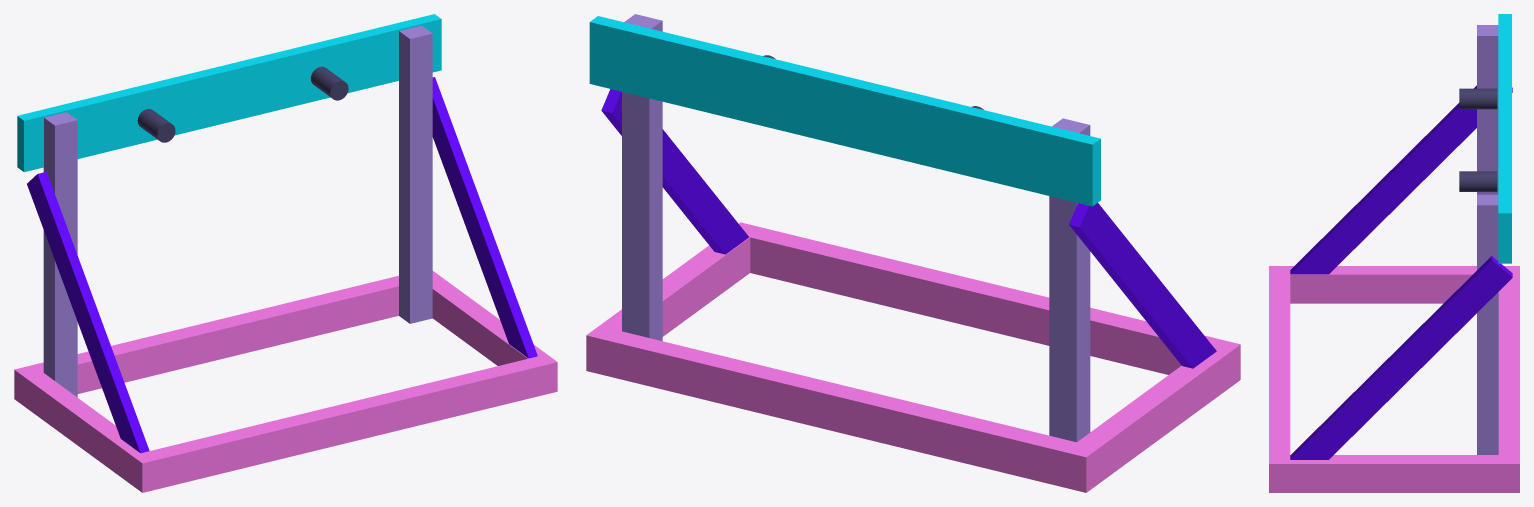
The model's file is weapon_rack.fbx.
3 renders of one model, left to right at view 1: azimuth 30°, elevation 25°; view 2: azimuth 150°, elevation 25°; view 3: azimuth 270°, elevation 25°, orthographic. The views are drawn at different scales.
Visible parts, largest first — view 1: pCube7, pCube3, pCube1, pCube6, pCube5, pCube8, pCube9, pCube2, pCube4, pCylinder1, pCylinder2; view 2: pCube7, pCube1, pCube3, pCube6, pCube5, pCube2, pCube8, pCube9, pCube4; view 3: pCube9, pCube4, pCube8, pCube2, pCube3, pCube6, pCube1, pCube7, pCube5, pCylinder1, pCylinder2.
Part boxes in pixels (x1=…): pCube7: x1=17, y1=14, x2=441, y2=172; pCube3: x1=131, y1=354, x2=557, y2=492; pCube1: x1=14, y1=271, x2=439, y2=406; pCube6: x1=399, y1=25, x2=432, y2=323; pCube5: x1=43, y1=112, x2=77, y2=397; pCube8: x1=27, y1=171, x2=149, y2=453; pCube9: x1=432, y1=77, x2=537, y2=358; pCube2: x1=25, y1=373, x2=149, y2=484; pCube4: x1=432, y1=276, x2=546, y2=365; pCylinder1: x1=137, y1=109, x2=175, y2=142; pCylinder2: x1=310, y1=66, x2=348, y2=100; pCube7: x1=589, y1=16, x2=1100, y2=206; pCube1: x1=586, y1=326, x2=1099, y2=492; pCube3: x1=739, y1=222, x2=1240, y2=388; pCube6: x1=622, y1=14, x2=662, y2=341; pCube5: x1=1049, y1=118, x2=1090, y2=442; pCube2: x1=1077, y1=351, x2=1227, y2=482; pCube8: x1=1069, y1=203, x2=1216, y2=368; pCube9: x1=601, y1=89, x2=748, y2=254; pCube4: x1=599, y1=237, x2=750, y2=336; pCube9: x1=1290, y1=256, x2=1512, y2=459; pCube4: x1=1290, y1=455, x2=1498, y2=492; pCube8: x1=1290, y1=85, x2=1512, y2=274; pCube2: x1=1290, y1=266, x2=1476, y2=303; pCube3: x1=1269, y1=266, x2=1290, y2=492; pCube6: x1=1477, y1=194, x2=1498, y2=454; pCube1: x1=1498, y1=266, x2=1519, y2=492; pCube7: x1=1498, y1=14, x2=1511, y2=263; pCube5: x1=1477, y1=25, x2=1498, y2=194; pCylinder1: x1=1459, y1=88, x2=1497, y2=109; pCylinder2: x1=1459, y1=171, x2=1497, y2=191.
Size of the model in its own units: 8.5 by 5.58 by 4.53.
